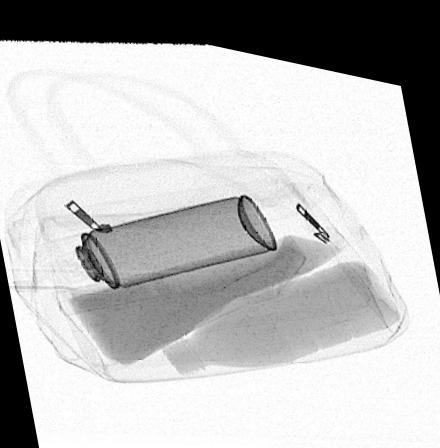Sprayer: (31, 180, 279, 297)
